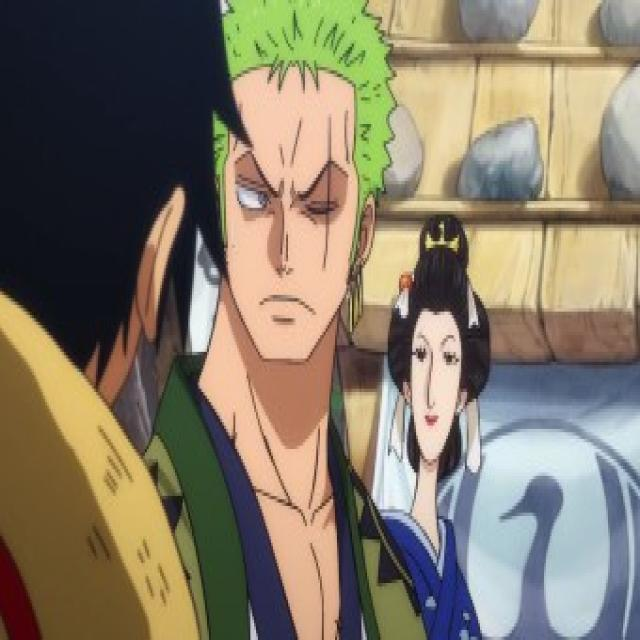Luffy: (0, 0, 215, 640)
Zoro: (190, 0, 402, 361)
